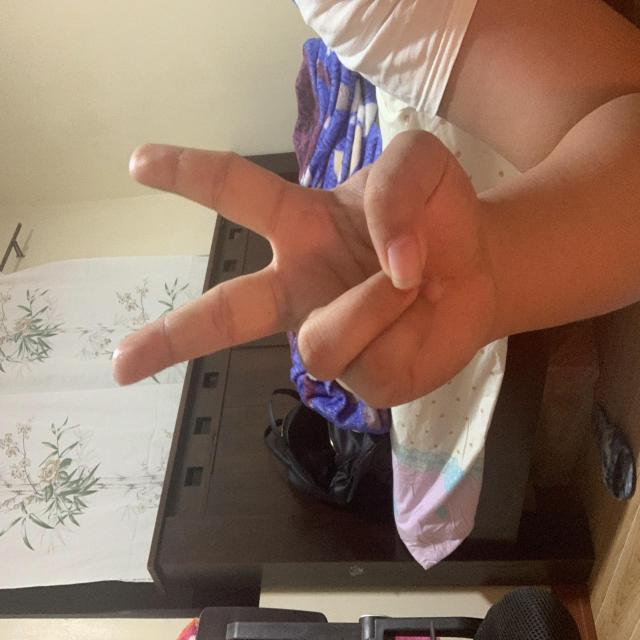V: (126, 111, 412, 498)
